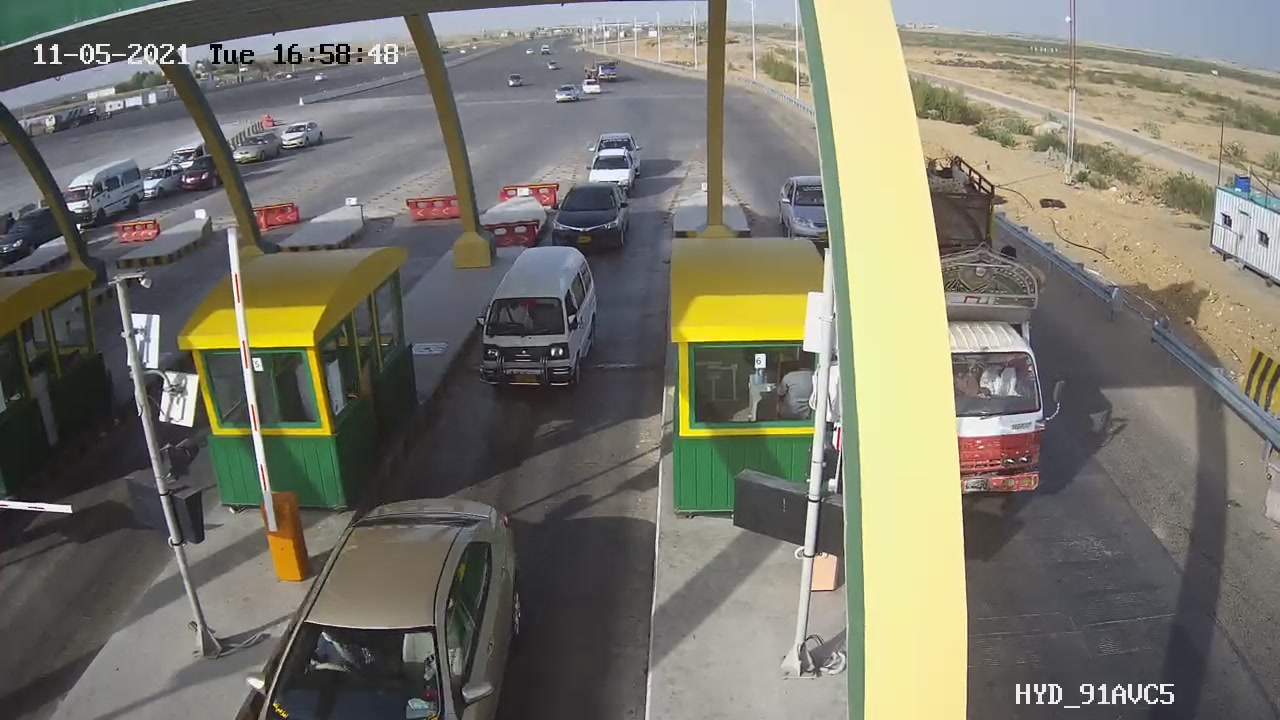F1: (462, 234, 618, 407), (540, 172, 642, 271)
